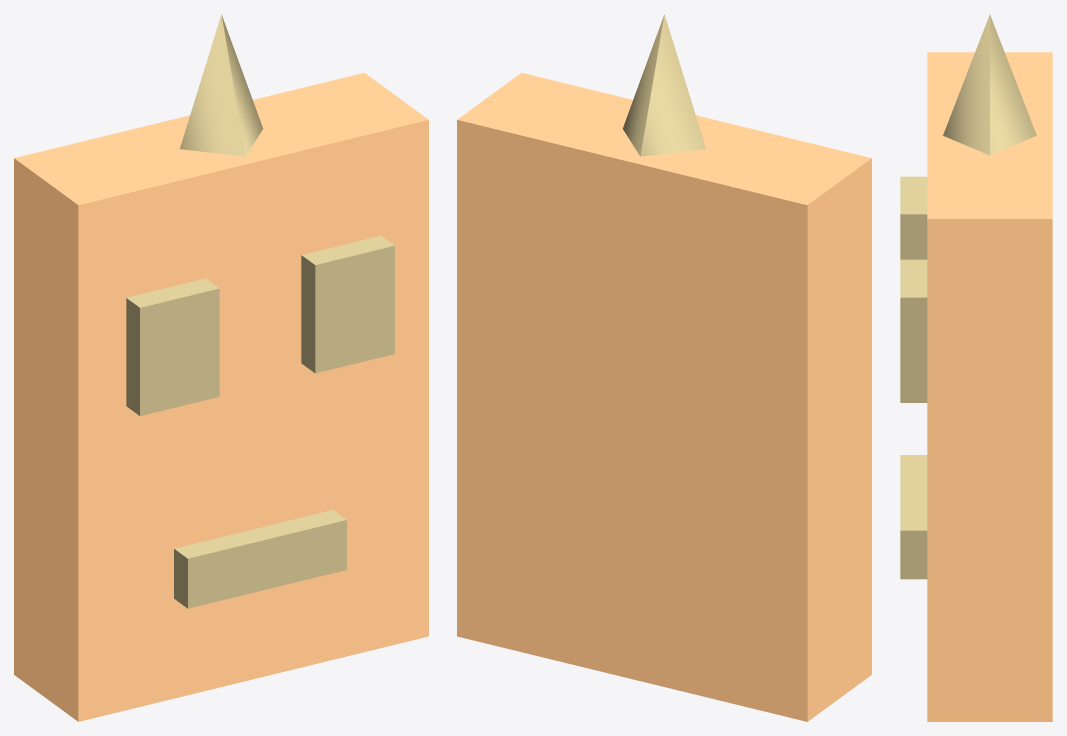
Rendered from mask.glb.
3 views of the same model, side by side, from view 1: azimuth 30°, elevation 25°; view 2: azimuth 150°, elevation 25°; view 3: azimuth 270°, elevation 25° (orthographic). The views are drawn at different scales.
Bounding box in the file's own units: 0.44 × 0.77 × 0.17.
